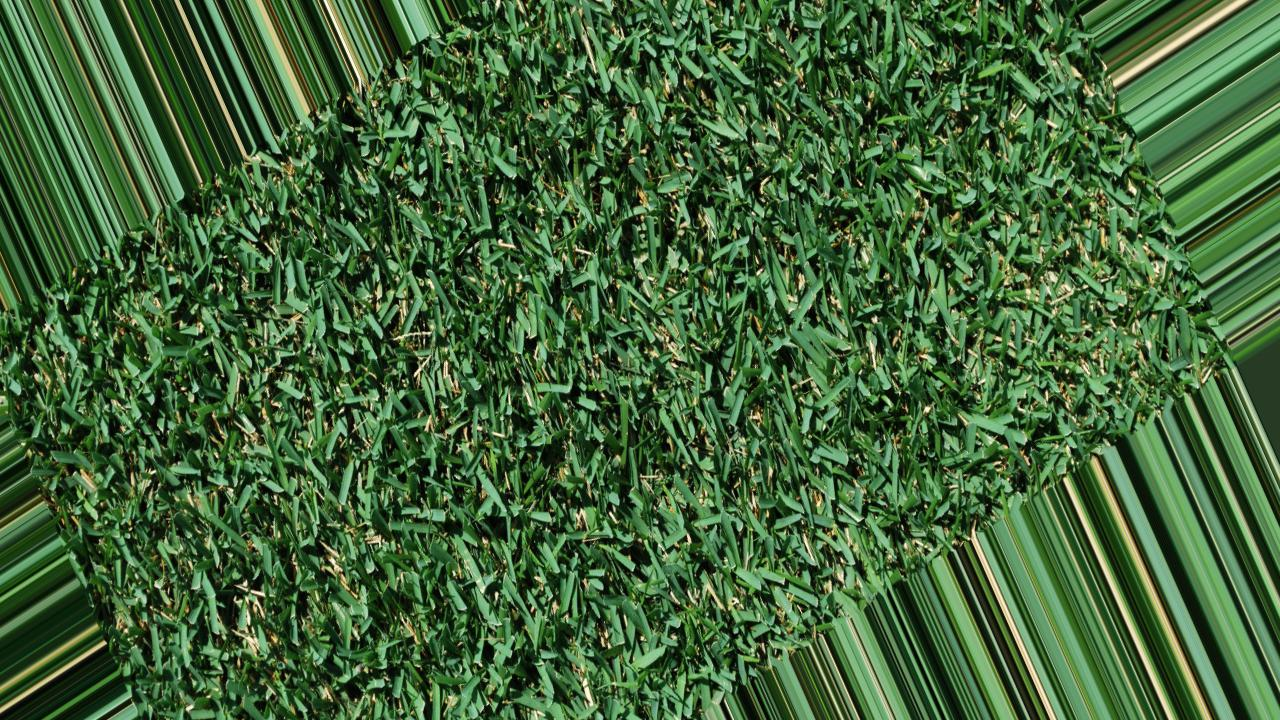patch: (417, 347, 473, 415)
